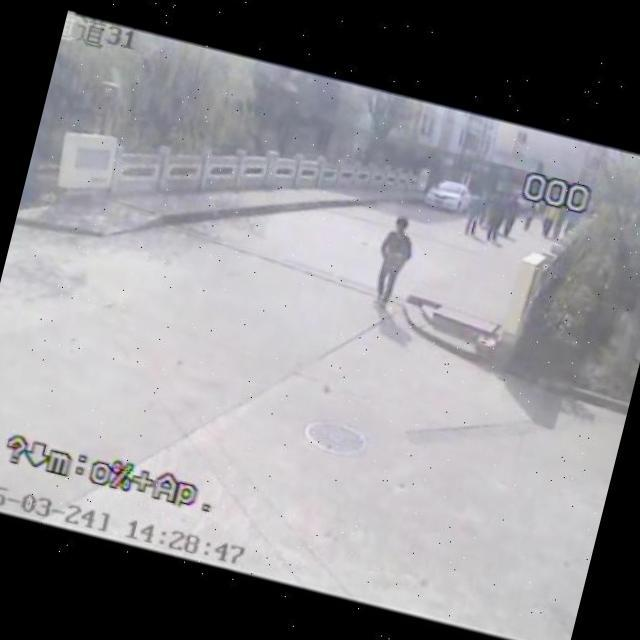person: (367, 212, 422, 310), (476, 190, 512, 252), (453, 186, 490, 241), (497, 190, 530, 240), (538, 202, 559, 244), (518, 202, 538, 238)
